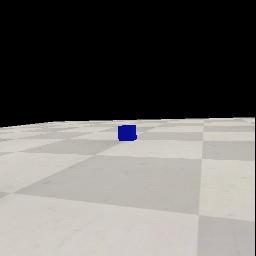box: (118, 125, 137, 141)
